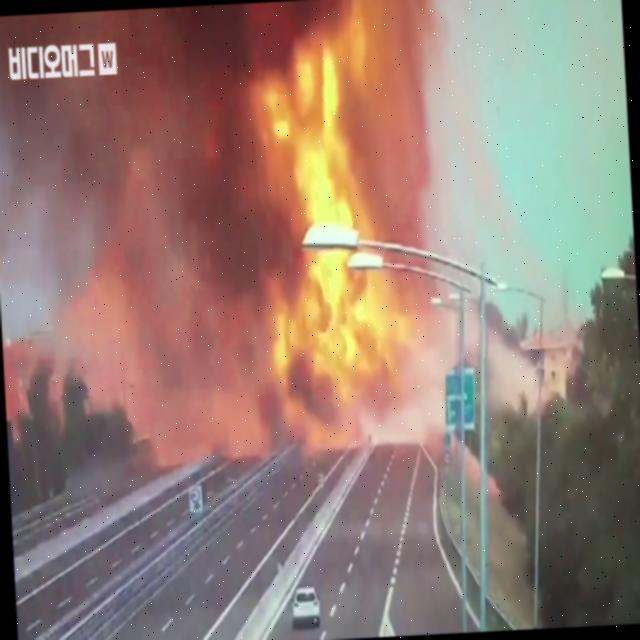explosion: (24, 0, 588, 531)
